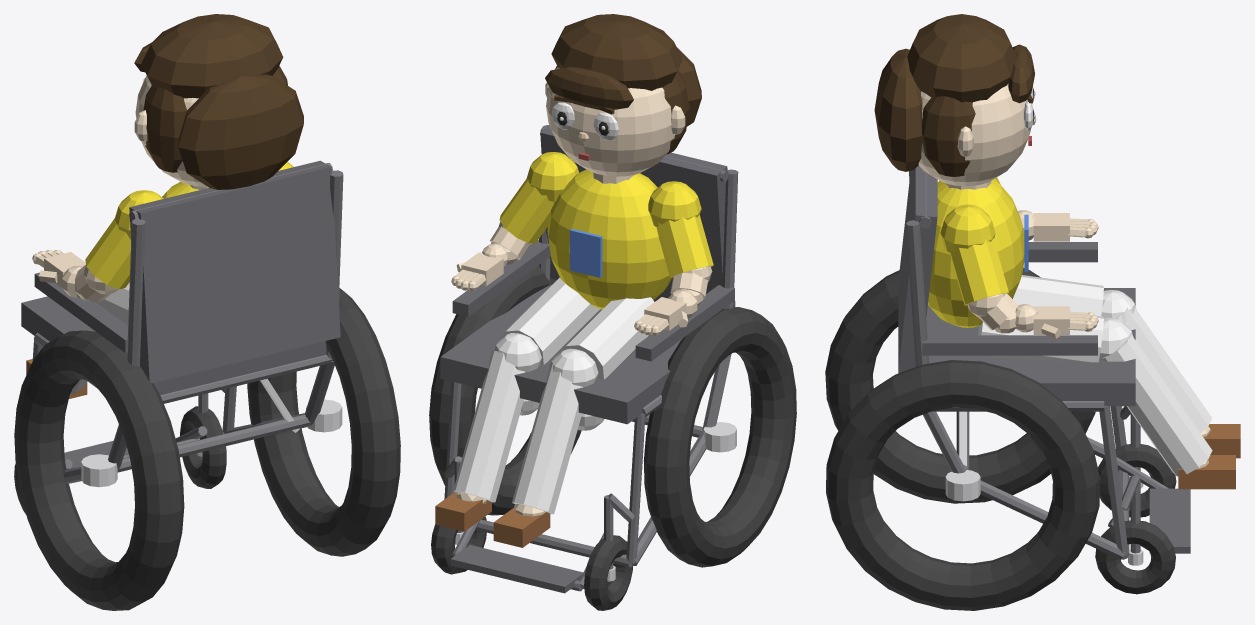
Rendered from NiñoSillaDeRuedas.glb.
The picture shows the model from 3 angles, left to right: view 1: azimuth 30°, elevation 25°; view 2: azimuth 150°, elevation 25°; view 3: azimuth 270°, elevation 25°; orthographic projection. The views are drawn at different scales.
Visible parts, largest first — view 1: back_cushion, w_rear_-_tire, w_rear_+_tire, h_back, h_top, seat_cushion, h_L, w_front_+_tire, armrest_-0.17600000000000002, uarm_L, fr_back_-0.2, xbar_axle (+11 smaller); view 2: w_rear_-_tire, torso, seat_cushion, h_top, head, w_rear_+_tire, shin_0.058, shin_-0.058, back_cushion, thigh_0.058, thigh_-0.058, footrest_plate (+27 smaller); view 3: w_rear_+_tire, w_rear_-_tire, h_top, torso, seat_cushion, shin_0.058, head, h_back, back_cushion, armrest_0.17600000000000002, w_front_+_tire, h_R (+22 smaller).
Boxes of the visible parts, x1,y1,x2,y2 form: back_cushion: (129,160,340,383); w_rear_-_tire: (14,330,184,610); w_rear_+_tire: (247,288,400,556); h_back: (178,74,303,189); h_top: (141,14,283,98); seat_cushion: (21,296,326,395); h_L: (143,85,186,172); w_front_+_tire: (180,406,226,488); armrest_-0.17600000000000002: (34,272,128,353); uarm_L: (85,218,130,289); fr_back_-0.2: (127,218,145,366); xbar_axle: (117,414,311,472); w_rear_-_tire: (643,307,796,567); torso: (547,169,671,309); seat_cushion: (440,284,682,424); h_top: (551,14,682,90); head: (546,67,674,176); w_rear_+_tire: (429,265,581,515); shin_0.058: (453,350,525,502); shin_-0.058: (512,362,582,514); back_cushion: (540,125,735,307); thigh_0.058: (498,277,600,364); thigh_-0.058: (561,297,654,379); footrest_plate: (450,545,582,593); w_rear_+_tire: (826,360,1100,610); w_rear_-_tire: (825,268,1095,503); h_top: (907,14,1015,102); torso: (928,179,1024,327); seat_cushion: (926,288,1135,406); shin_0.058: (1100,334,1212,476); head: (918,83,1030,186); h_back: (874,48,922,171); back_cushion: (898,165,937,373); armrest_0.17600000000000002: (922,335,1097,355); w_front_+_tire: (1095,520,1175,594); h_R: (922,96,975,177).
Bounding box in the file's own units: 0.4996 × 0.9365 × 0.6618.
